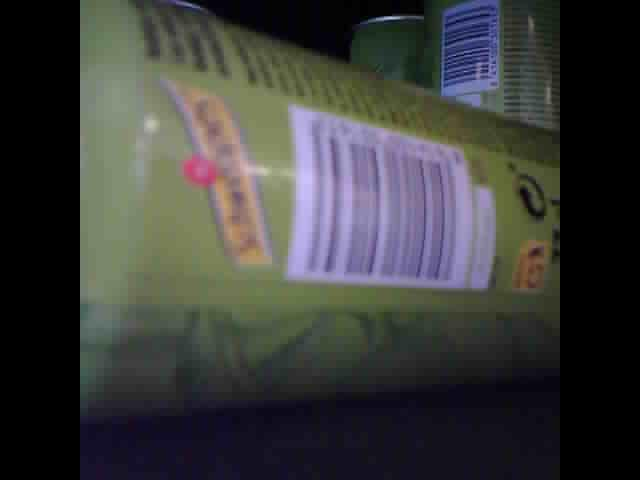schweppes: (80, 8, 560, 418), (435, 4, 556, 127), (344, 14, 430, 93)
